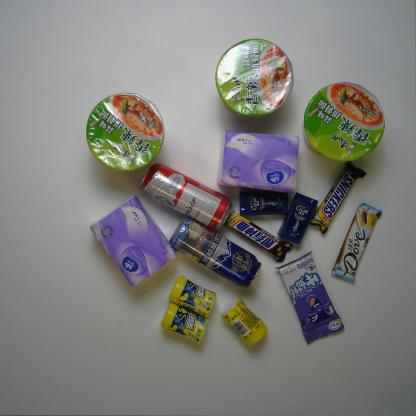Alcohol: (168, 218, 262, 288), (140, 163, 234, 232)
Candy: (275, 249, 346, 346)
Chocolate: (330, 202, 382, 283), (310, 161, 367, 234), (225, 212, 292, 264)
Gum: (222, 298, 268, 349), (159, 302, 210, 343), (169, 276, 217, 319)
Instant Noodles: (302, 81, 385, 161), (86, 92, 165, 174), (215, 38, 294, 118)
Personal Hygiene: (277, 191, 318, 248), (238, 189, 289, 217)
Tissue: (89, 194, 176, 289), (215, 128, 301, 192)
